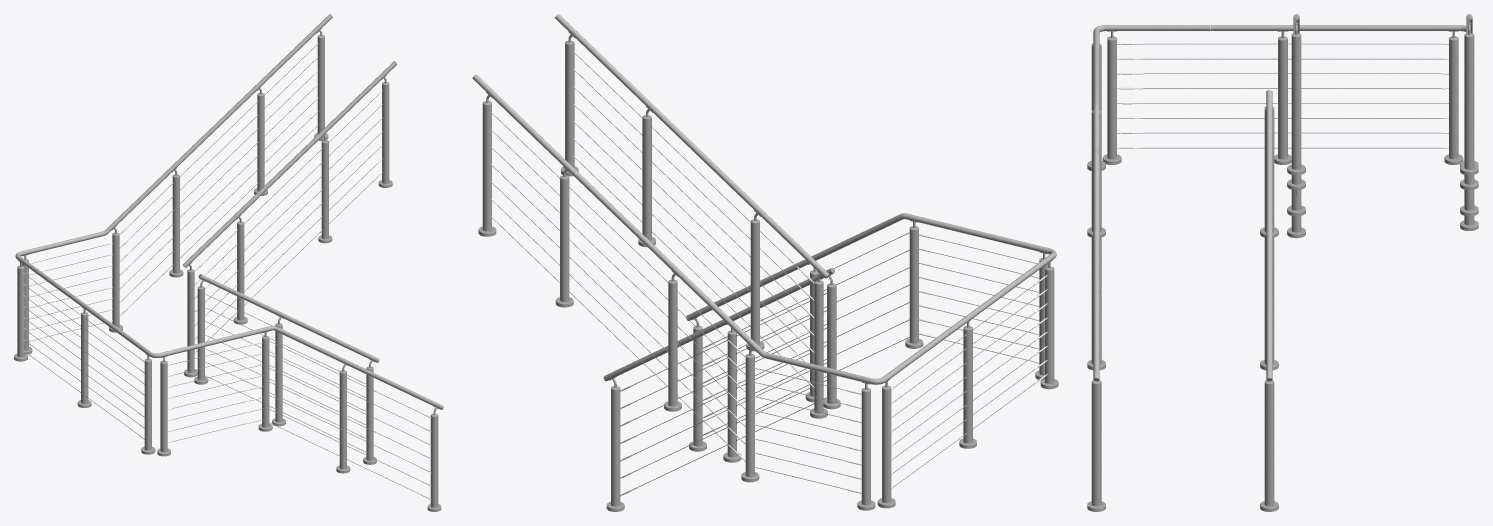
The model's file is Switchback_Railing_Koto_Round.gltf.
3 views of the same model, side by side, from view 1: azimuth 30°, elevation 25°; view 2: azimuth 150°, elevation 25°; view 3: azimuth 270°, elevation 25° (orthographic). The views are drawn at different scales.
Parts seen in each view (by area): view 1: Nested_Rail LS Material [8461322], Nested_Rail LS Material [8719226], Nested_Rail LS Material [8461324], Custom - Koto Round Post Material LS Material [8581377], Nested_Rail LS Material [8719249], Nested_Bend Bend_1, Custom - Koto Round Post Material LS Material [8467853], Custom - Koto Round Post Material LS Material [8467990], Custom - Koto Round Post Material LS Material [8467835]002, Custom - Koto Round Post Material LS Material [8579826]002, Custom - Koto Round Post Material LS Material [8579826], Custom - Koto Round Post Material LS Material [8579826]001 (+14 smaller); view 2: Nested_Rail LS Material [8461322], Nested_Rail LS Material [8719226], Nested_Rail LS Material [8461324], Nested_Bend Bend_1, Custom - Koto Round Post Material LS Material [8467853]001, Custom - Koto Round Post Material LS Material [8467990], Custom - Koto Round Post Material LS Material [8579826], Custom - Koto Round Post Material LS Material [8579826]001, Custom - Koto Round Post Material LS Material [8467853], Custom - Koto Round Post Material LS Material [8579826]002, Custom - Koto Round Post Material LS Material [8579826]003, Custom - Koto Round Post Material LS Material [8579823] (+13 smaller); view 3: Nested_Rail LS Material [8461324], Nested_Rail LS Material [8719249], Nested_Bend Bend_1, Custom - Koto Round Post Material LS Material [8467853], Custom - Koto Round Post Material LS Material [8467853]001, Custom - Koto Round Post Material LS Material [8467844], Custom - Koto Round Post Material LS Material [8581377], Custom - Koto Round Post Material LS Material [8580476]001, Custom - Koto Round Post Material LS Material [8580439]008, Custom - Koto Round Post Material LS Material [8580439]006, Nested_Bend Bend_2, Custom - Koto Round Post Material LS Material [8467835]001 (+8 smaller).
Boxes of the visible parts, x1,y1,x2,y2 form: Nested_Rail LS Material [8461322]: (183, 61, 396, 267); Nested_Rail LS Material [8719226]: (139, 14, 332, 200); Nested_Rail LS Material [8461324]: (200, 274, 379, 362); Custom - Koto Round Post Material LS Material [8581377]: (430, 416, 438, 507); Nested_Rail LS Material [8719249]: (302, 339, 443, 409); Nested_Bend Bend_1: (15, 243, 111, 326); Custom - Koto Round Post Material LS Material [8467853]: (382, 84, 389, 183); Custom - Koto Round Post Material LS Material [8467990]: (187, 271, 194, 372); Custom - Koto Round Post Material LS Material [8467835]002: (339, 373, 346, 469); Custom - Koto Round Post Material LS Material [8579826]002: (321, 142, 328, 238); Custom - Koto Round Post Material LS Material [8579826]: (172, 177, 179, 273); Custom - Koto Round Post Material LS Material [8579826]001: (257, 95, 264, 191); Nested_Rail LS Material [8461322]: (555, 14, 828, 277); Nested_Rail LS Material [8719226]: (473, 74, 720, 313); Nested_Rail LS Material [8461324]: (603, 268, 833, 381); Nested_Bend Bend_1: (829, 290, 1005, 384); Custom - Koto Round Post Material LS Material [8467853]001: (482, 104, 491, 231); Custom - Koto Round Post Material LS Material [8467990]: (814, 283, 823, 413); Custom - Koto Round Post Material LS Material [8579826]: (668, 282, 677, 406); Custom - Koto Round Post Material LS Material [8579826]001: (560, 178, 569, 301); Custom - Koto Round Post Material LS Material [8467853]: (565, 43, 574, 169); Custom - Koto Round Post Material LS Material [8579826]002: (642, 118, 651, 241); Custom - Koto Round Post Material LS Material [8579826]003: (750, 222, 759, 345); Custom - Koto Round Post Material LS Material [8579823]: (745, 357, 754, 476); Nested_Rail LS Material [8461324]: (1266, 90, 1272, 378); Nested_Rail LS Material [8719249]: (1093, 151, 1099, 378); Nested_Bend Bend_1: (1210, 25, 1466, 31); Custom - Koto Round Post Material LS Material [8467853]: (1291, 36, 1301, 169); Custom - Koto Round Post Material LS Material [8467853]001: (1464, 36, 1474, 169); Custom - Koto Round Post Material LS Material [8467844]: (1264, 383, 1274, 506); Custom - Koto Round Post Material LS Material [8581377]: (1091, 383, 1101, 506); Custom - Koto Round Post Material LS Material [8580476]001: (1278, 39, 1287, 159); Custom - Koto Round Post Material LS Material [8580439]008: (1449, 39, 1458, 159); Custom - Koto Round Post Material LS Material [8580439]006: (1107, 39, 1116, 159); Nested_Bend Bend_2: (1093, 25, 1208, 52); Custom - Koto Round Post Material LS Material [8467835]001: (1264, 235, 1274, 364).
Bounding box in the file's own units: 3.06 × 3.48 × 2.39.
Materials: 4 (3 with a texture image).
